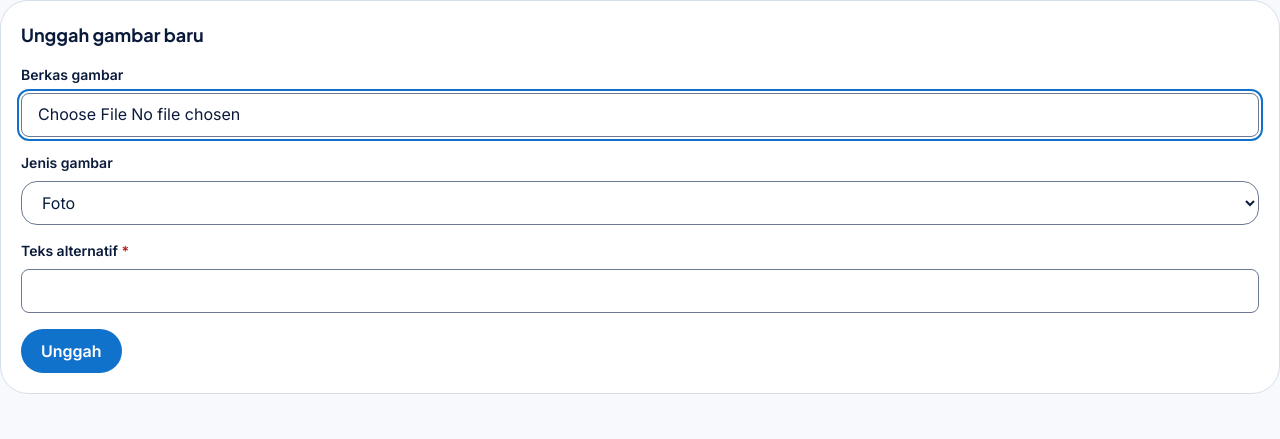
Scenario: media upload › refuses a downscaled image that is still over the upload limit without calling the action
Earlier steps of the test are not shown.
Type "Foto besar" into the field labelled "Teks alternatif *" at [640, 291], box left=21, top=269, right=1259, bottom=313
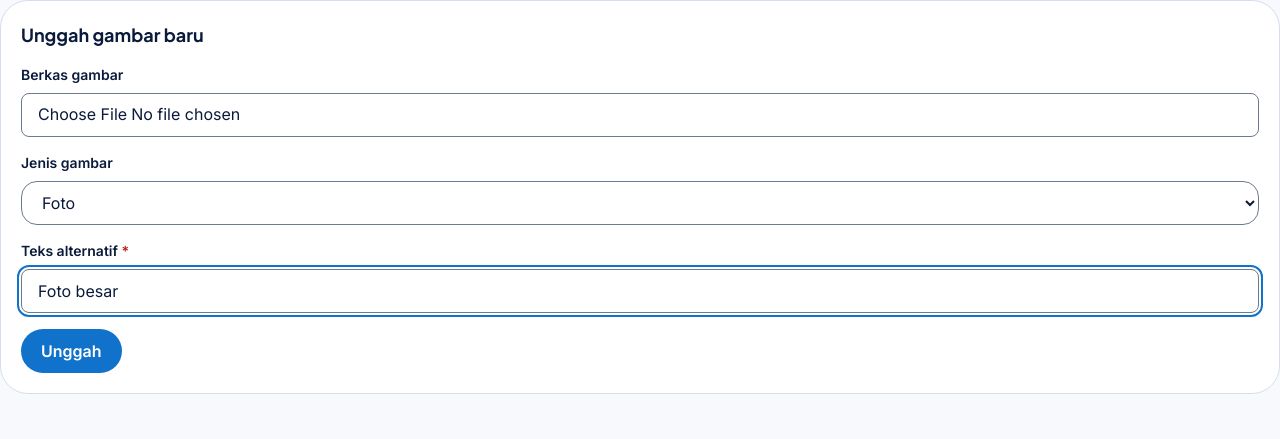
Click the button "Unggah" at [71, 351], box left=21, top=329, right=122, bottom=373
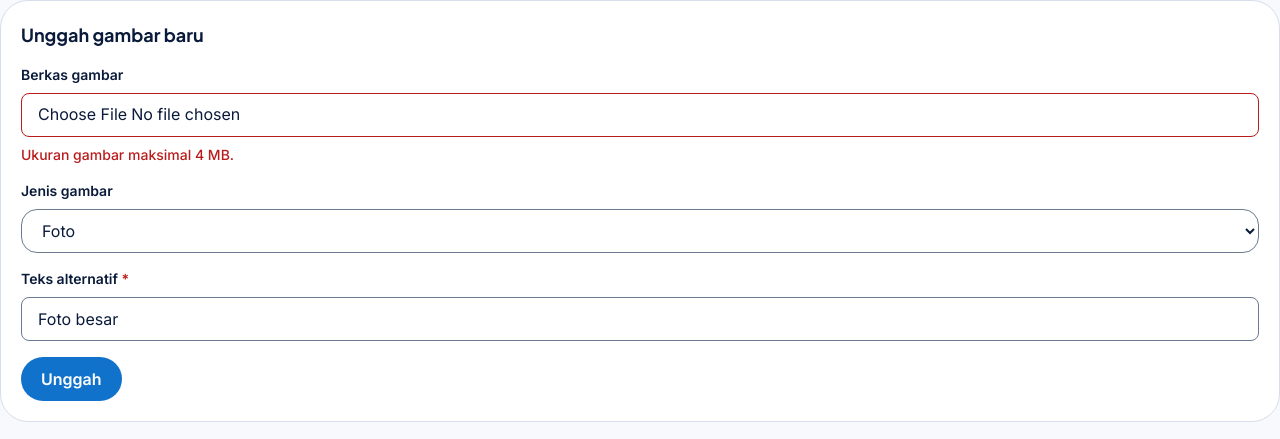
Expected: the text "Ukuran gambar maksimal 4 MB." is shown, left=21, top=146, right=234, bottom=163
